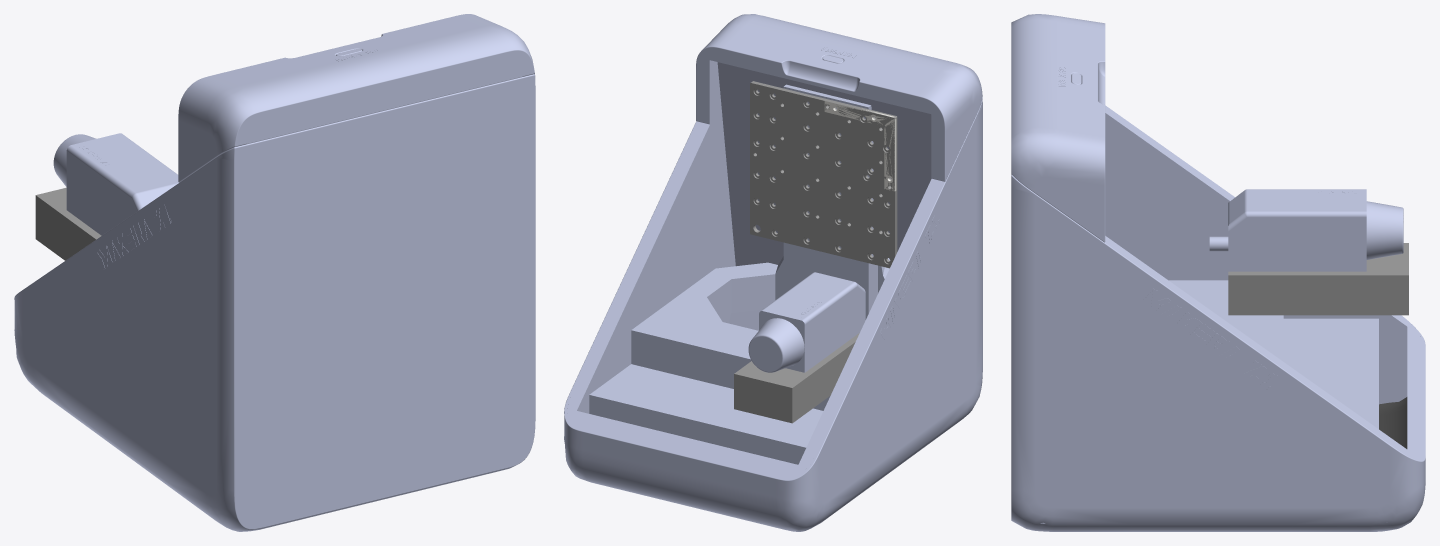
The model's file is makera_z1_3axis.glb.
3 renders of one model, left to right at view 1: azimuth 30°, elevation 25°; view 2: azimuth 150°, elevation 25°; view 3: azimuth 270°, elevation 25°, orthographic. The views are drawn at different scales.
Visible parts, largest first — view 1: 1100_4_1_1:1, FrontStatic:1, ZAxis:1, XAxis:1; view 2: 1100_4_1_1:1, 1100_4_2_1:1, Internal Frame:1, Z1-MDF-v2.1:1, FrontStatic:1, ZAxis:1, XAxis:1, Anchor1:1; view 3: 1100_4_1_1:1, 1100_4_2_1:1, FrontStatic:1, ZAxis:1, Internal Frame:1, XAxis:1.
Part boxes in pixels (<box>): 1100_4_1_1:1: <box>14,74,535,531</box>; FrontStatic:1: <box>178,14,534,182</box>; ZAxis:1: <box>53,133,178,235</box>; XAxis:1: <box>35,187,101,260</box>; 1100_4_1_1:1: <box>564,94,982,531</box>; 1100_4_2_1:1: <box>567,101,942,530</box>; Internal Frame:1: <box>589,84,890,464</box>; Z1-MDF-v2.1:1: <box>750,81,897,268</box>; FrontStatic:1: <box>696,14,982,181</box>; ZAxis:1: <box>748,272,865,372</box>; XAxis:1: <box>734,333,859,423</box>; Anchor1:1: <box>824,101,896,191</box>; 1100_4_1_1:1: <box>1011,105,1425,531</box>; 1100_4_2_1:1: <box>1040,107,1421,529</box>; FrontStatic:1: <box>1011,14,1105,242</box>; ZAxis:1: <box>1209,189,1403,271</box>; Internal Frame:1: <box>1169,280,1378,428</box>; XAxis:1: <box>1228,243,1408,315</box>.
Size of the model in its own units: 0.3554 by 0.4763 by 0.449.
